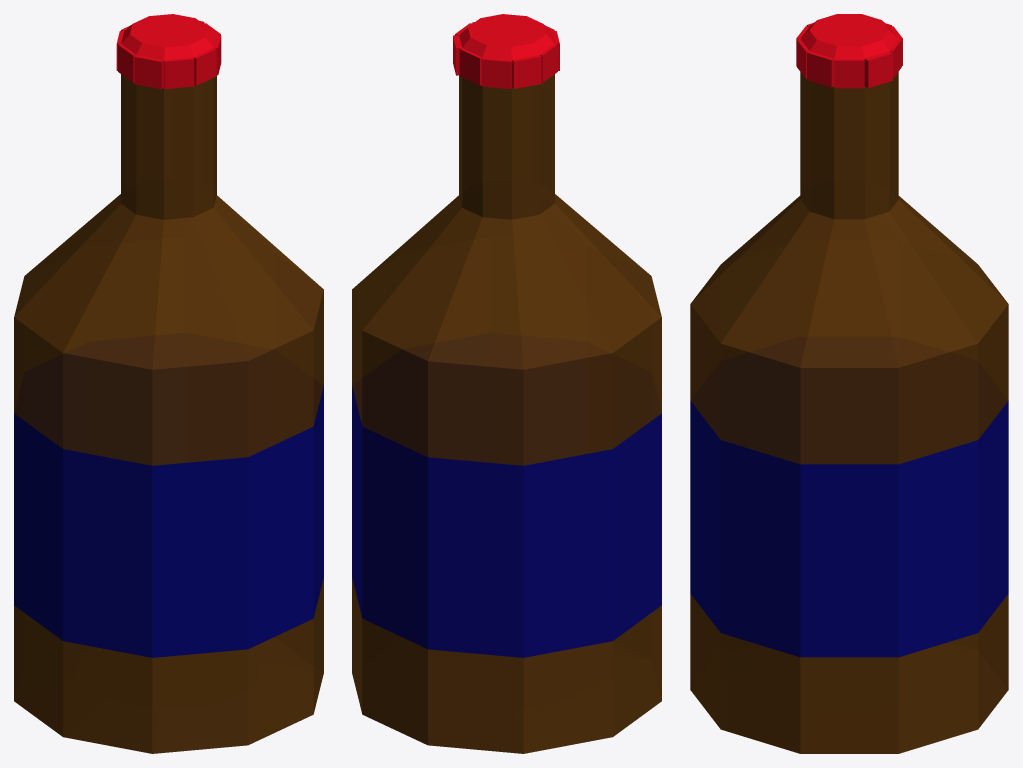
Rendered from beer.fbx.
3 renders of one model, left to right at view 1: azimuth 30°, elevation 25°; view 2: azimuth 150°, elevation 25°; view 3: azimuth 270°, elevation 25°, orthographic.
Visible parts, largest first — view 1: Cylinder; view 2: Cylinder; view 3: Cylinder.
Part boxes in pixels (x1,y1,x2,y2): Cylinder: [14, 14, 323, 753]; Cylinder: [352, 14, 661, 753]; Cylinder: [690, 14, 1008, 753].
Size of the model in its own units: 190 by 458 by 200.
